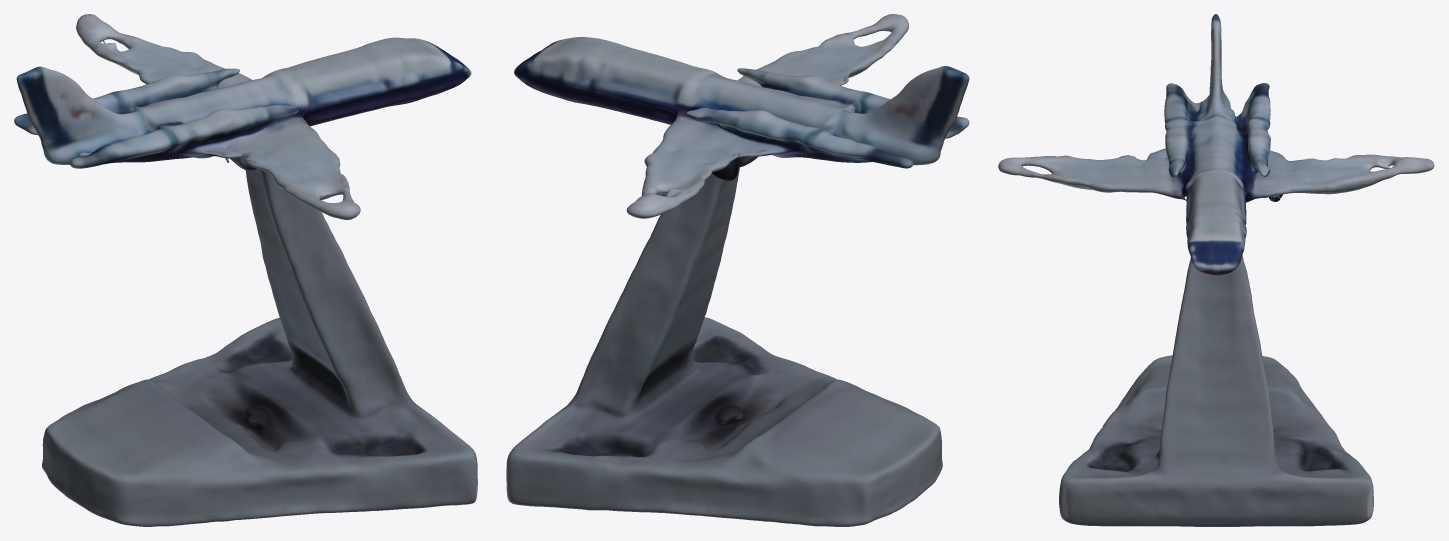
Rendered from 58f454102c8d_airplane_model_with.fbx.
3 renders of one model, left to right at view 1: azimuth 30°, elevation 25°; view 2: azimuth 150°, elevation 25°; view 3: azimuth 270°, elevation 25°, orthographic. The views are drawn at different scales.
Visible parts, largest first — view 1: high_poly; view 2: high_poly; view 3: high_poly.
Boxes of the visible parts, x1,y1,x2,y2 form: high_poly: (14,14,477,526); high_poly: (506,14,969,526); high_poly: (998,14,1434,526).
Size of the model in its own units: 95.95 by 93.93 by 100.
